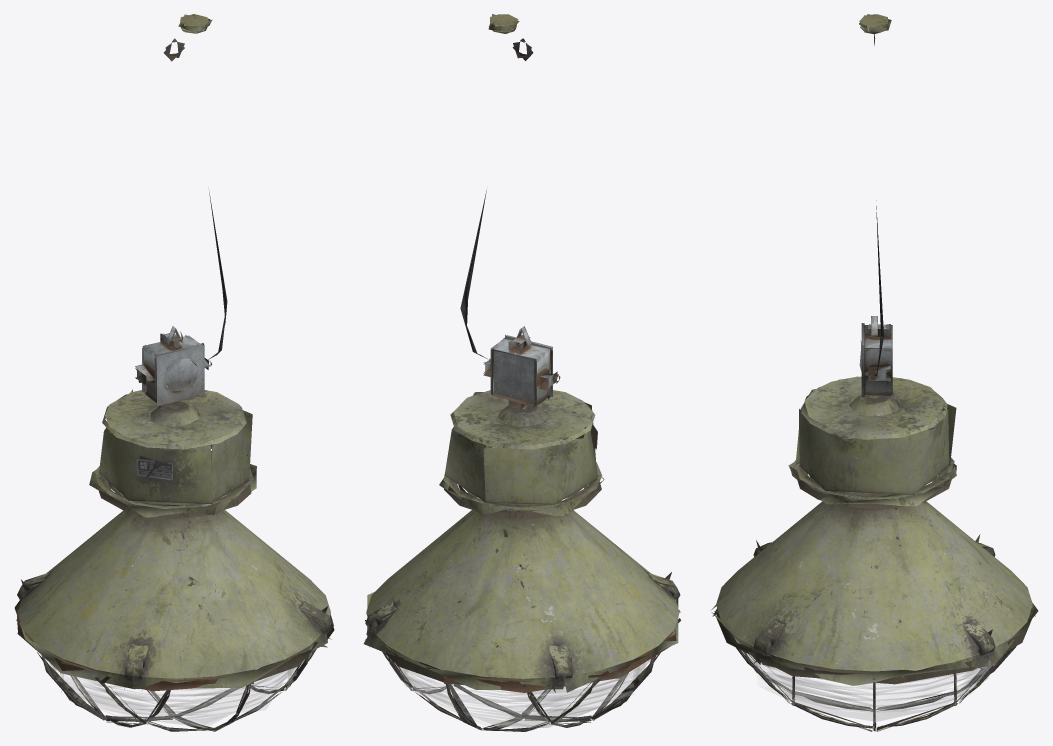
Rendered from hall_pendant.glb.
3 views of the same model, side by side, from view 1: azimuth 30°, elevation 25°; view 2: azimuth 150°, elevation 25°; view 3: azimuth 270°, elevation 25° (orthographic).
Parts seen in each view (by area): view 1: hall_pendant; view 2: hall_pendant; view 3: hall_pendant.
Part boxes in pixels (x1,y1,x2,y2): hall_pendant: [14, 14, 334, 731]; hall_pendant: [363, 14, 680, 731]; hall_pendant: [710, 14, 1038, 731].
Size of the model in its own units: 0.5632 by 1.34 by 0.5694.
Materials: 2 (1 with a texture image).
